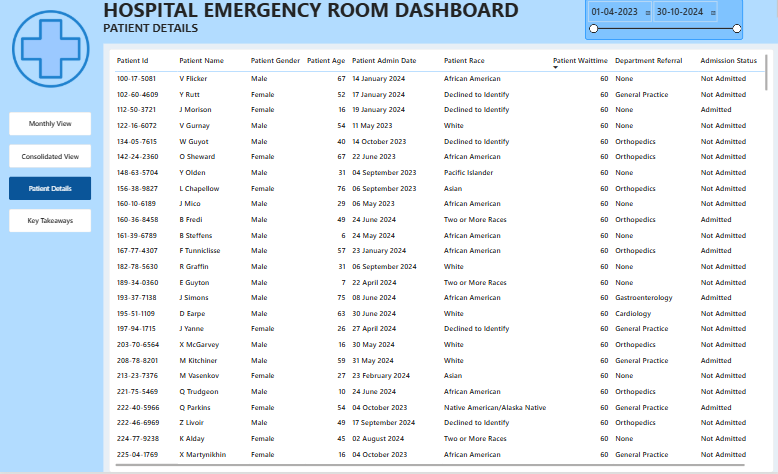

This screenshot's page, from the dashboard's own definition file:
{"tool":"powerbi","page":{"name":"Patient Details","canvas":[2300,1400],"ordinal":2},"visuals":[{"type":"shape","box":[0,0,310,1400],"z":0},{"type":"shape","box":[310,0,1990,140],"z":1000},{"type":"textbox","box":[310,0,1990,70],"z":2000},{"type":"textbox","box":[310,70,357.5,57.5],"z":3000},{"type":"slicer","fields":{"Values":["Date Table.Date"]},"box":[1725,10,465,120],"z":4000},{"type":"image","box":[40,20,227.5,270],"z":5000},{"type":"tableEx","fields":{"Values":["Hospital ER_Data.Patient Id","Hospital ER_Data.Patient Full Name","Hospital ER_Data.Patient Gender","Sum(Hospital ER_Data.Patient Age)","Hospital ER_Data.Patient Admin Date","Hospital ER_Data.Patient Race","Sum(Hospital ER_Data.Patient Waittime)","Hospital ER_Data.Department Referral","Hospital ER_Data.Admission Status"]},"box":[327.5,155,1955,1245],"z":6000},{"type":"pageNavigator","box":[32.5,342.5,242.5,357.5],"z":7000}]}

Visuals, with their boxes in screenshot pixels (x1, y1, x2, y2), scaled from the page's 2300x1400 canvas onto the 778x474 screenshot:
shape: (left=0, top=0, right=105, bottom=473)
shape: (left=105, top=0, right=777, bottom=47)
textbox: (left=105, top=0, right=777, bottom=24)
textbox: (left=105, top=24, right=226, bottom=43)
slicer - Date Table.Date: (left=584, top=3, right=741, bottom=44)
image: (left=14, top=7, right=90, bottom=98)
tableEx - Hospital ER_Data.Patient Id x Hospital ER_Data.Patient Full Name: (left=111, top=52, right=772, bottom=473)
pageNavigator: (left=11, top=116, right=93, bottom=237)
